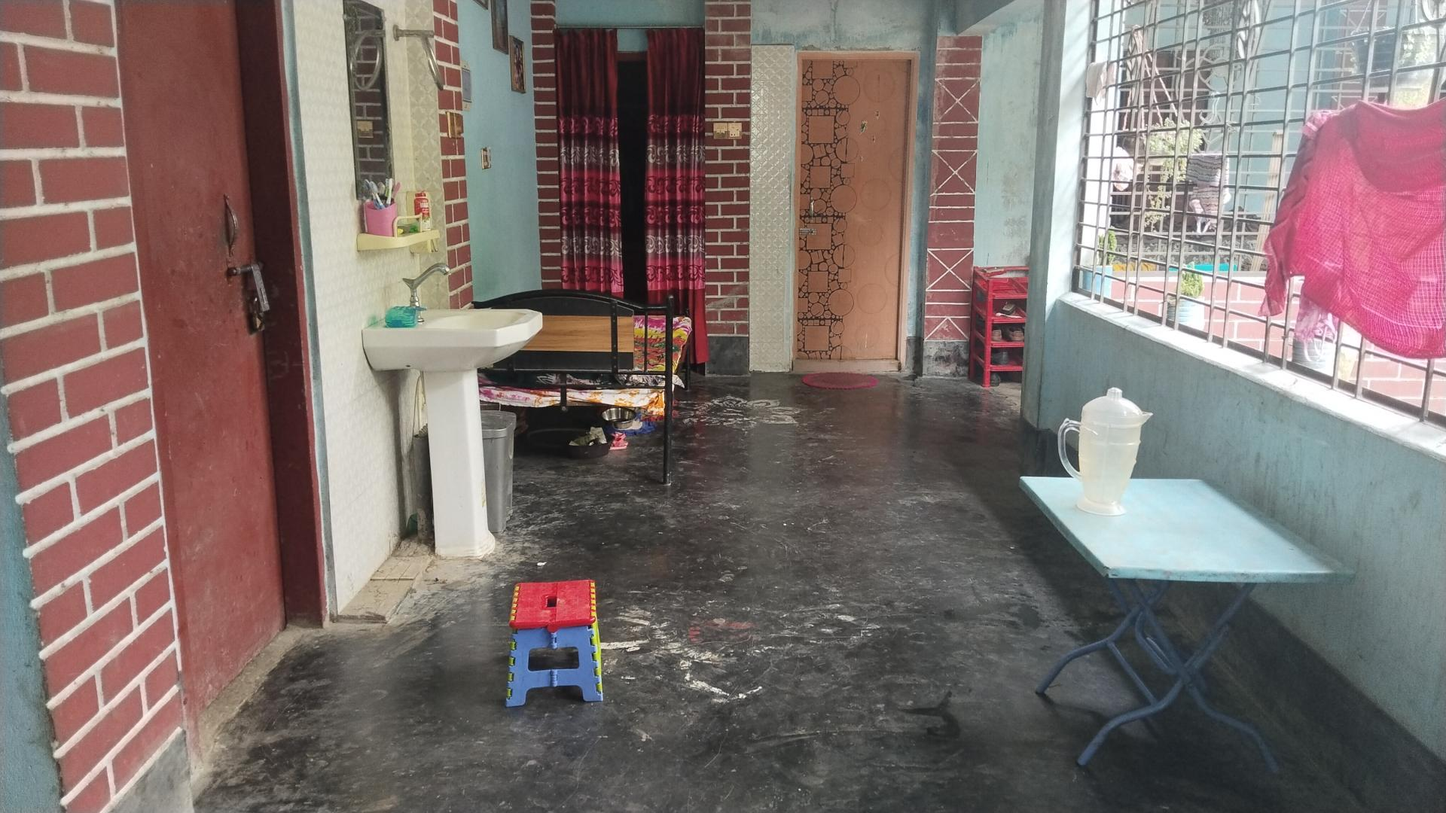Door: (794, 56, 903, 366)
Jug: (1063, 396, 1152, 513)
Stool: (512, 580, 604, 708)
Table: (1020, 476, 1349, 760)
